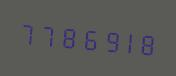eight: (57, 17, 76, 54), (137, 24, 156, 61)
nine: (97, 20, 116, 58)
one: (117, 22, 136, 60)
seven: (17, 13, 36, 51), (37, 15, 56, 53)
six: (77, 19, 96, 56)
